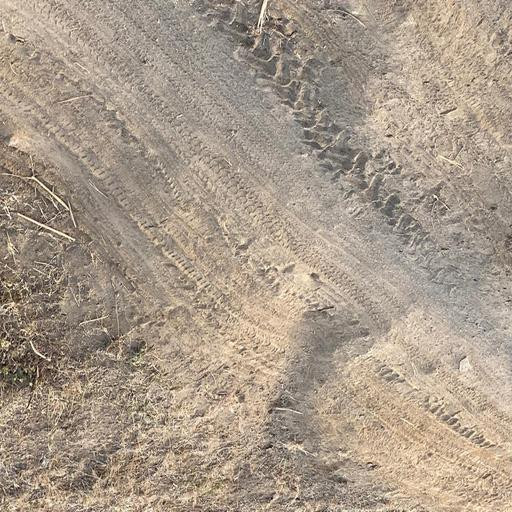vehicle_track: (0, 0, 512, 507)
